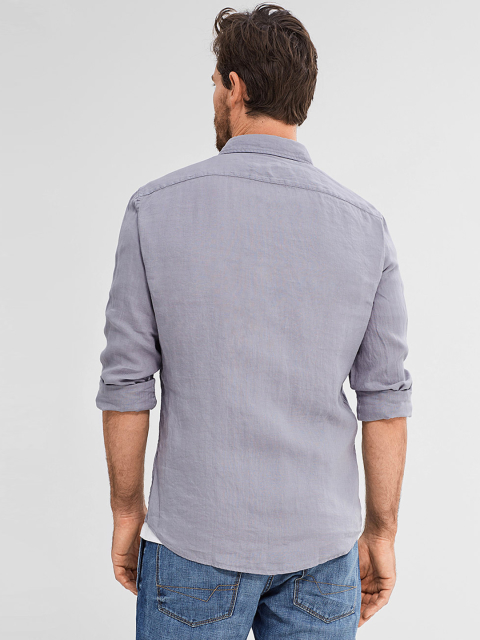jeans: (131, 558, 368, 640)
shirt: (106, 136, 411, 555)
